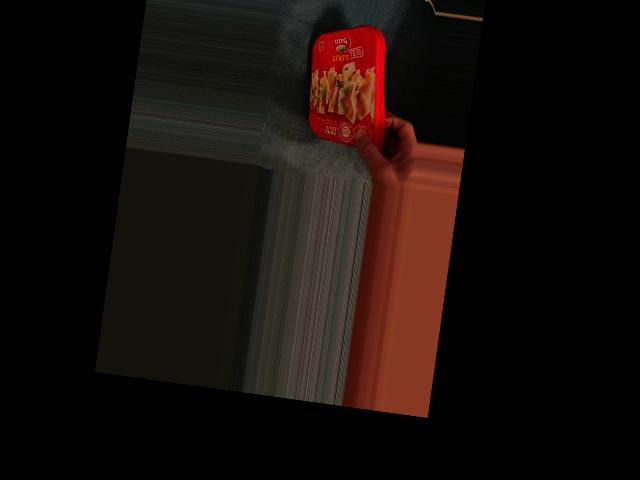cheese: (297, 24, 394, 147)
